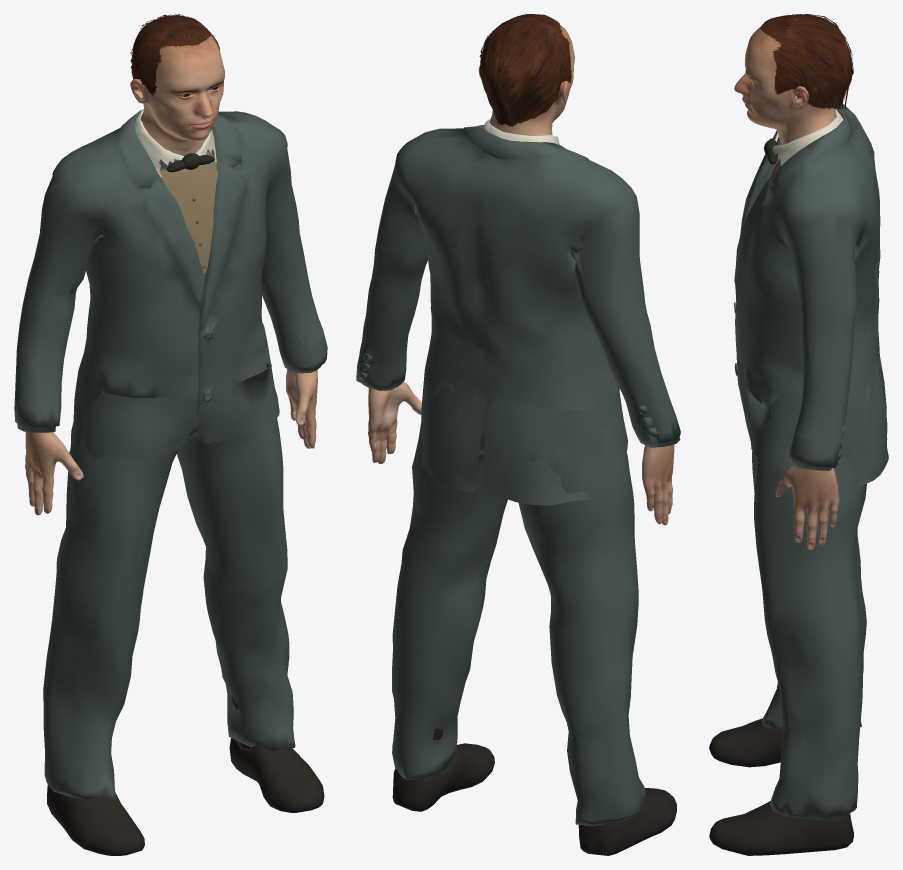
Rendered from household-routines-characters.glb.
3 views of the same model, side by side, from view 1: azimuth 30°, elevation 25°; view 2: azimuth 150°, elevation 25°; view 3: azimuth 270°, elevation 25° (orthographic).
Parts seen in each view (by area): view 1: water-householder_root_Coat, water-householder_upper_Coat, water-householder_root_Boot, water-householder_head_Skin, water-householder_upper_Skin, water-householder_upper_Waistcoat, water-householder_head_Hair, water-householder_upper_Shirt; view 2: water-householder_root_Coat, water-householder_upper_Coat, water-householder_head_Hair, water-householder_root_Boot, water-householder_upper_Skin, water-householder_head_Skin; view 3: water-householder_root_Coat, water-householder_upper_Coat, water-householder_root_Boot, water-householder_head_Hair, water-householder_head_Skin, water-householder_upper_Skin, water-householder_upper_Shirt.
Boxes of the visible parts, x1,y1,x2,y2 form: water-householder_root_Coat: (14, 331, 327, 800); water-householder_upper_Coat: (15, 109, 323, 416); water-householder_root_Boot: (47, 695, 324, 855); water-householder_head_Skin: (130, 35, 224, 150); water-householder_upper_Skin: (25, 138, 317, 515); water-householder_upper_Waistcoat: (159, 151, 218, 273); water-householder_head_Hair: (130, 14, 219, 97); water-householder_upper_Shirt: (134, 109, 216, 176); water-householder_root_Coat: (356, 351, 680, 826); water-householder_upper_Coat: (359, 125, 675, 432); water-householder_head_Hair: (479, 14, 571, 127); water-householder_root_Boot: (392, 728, 676, 855); water-householder_upper_Skin: (368, 382, 674, 525); water-householder_head_Skin: (478, 25, 574, 135); water-householder_root_Coat: (734, 357, 888, 820); water-householder_upper_Coat: (734, 104, 883, 441); water-householder_root_Boot: (709, 718, 853, 855); water-householder_head_Hair: (760, 14, 853, 109); water-householder_head_Skin: (734, 27, 835, 144); water-householder_upper_Skin: (775, 143, 839, 550); water-householder_upper_Shirt: (772, 109, 843, 170).
Bounding box in the file's own units: 0.7032 × 1.7 × 0.3541.
10 materials, 4 textured.
